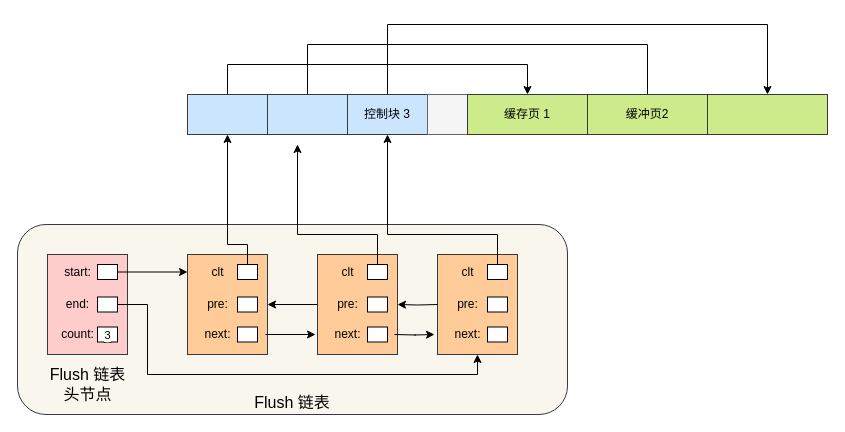
Image size: 845x432. Some labels were removed from this diagram. The centre of each missing label's shape, as x and y in pixels:
"控制块 1" goes at (x=227, y=114).
"控制块2" goes at (x=307, y=114).
"缓存页3" goes at (x=767, y=114).
